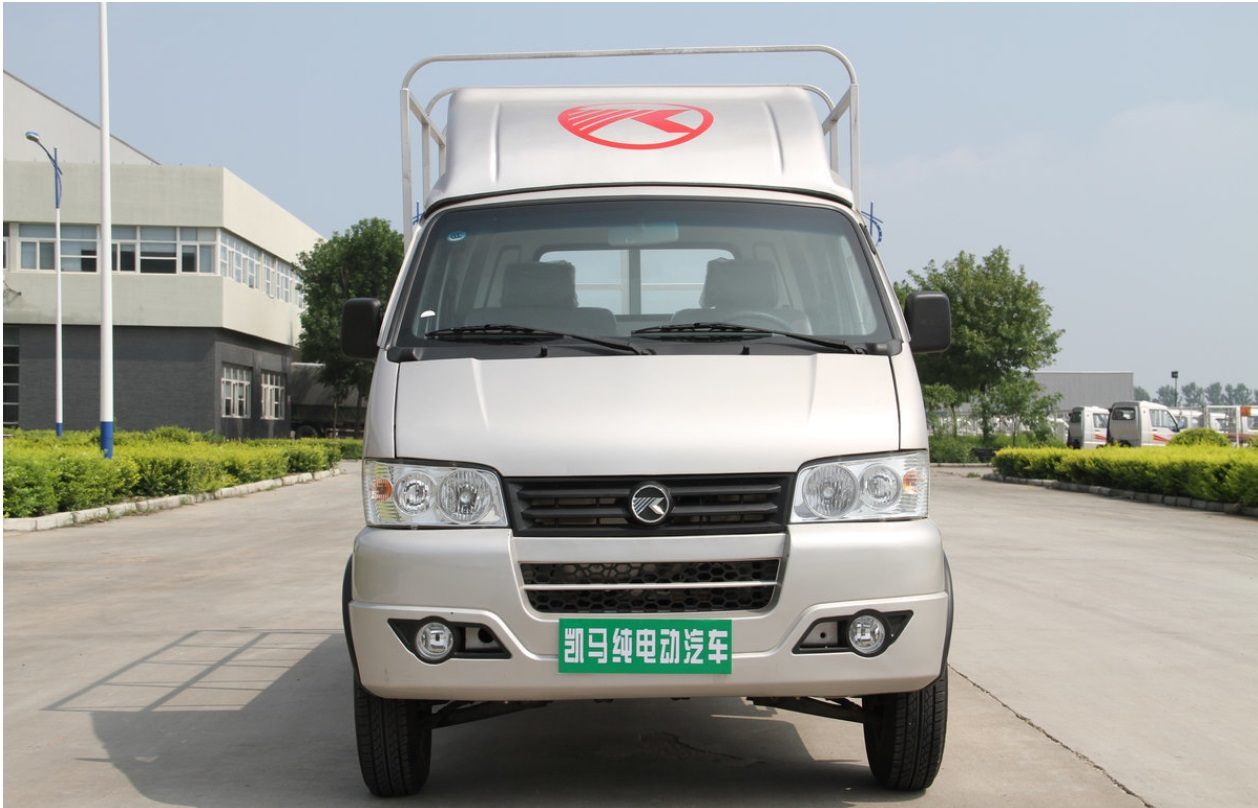truck: (332, 38, 961, 795)
